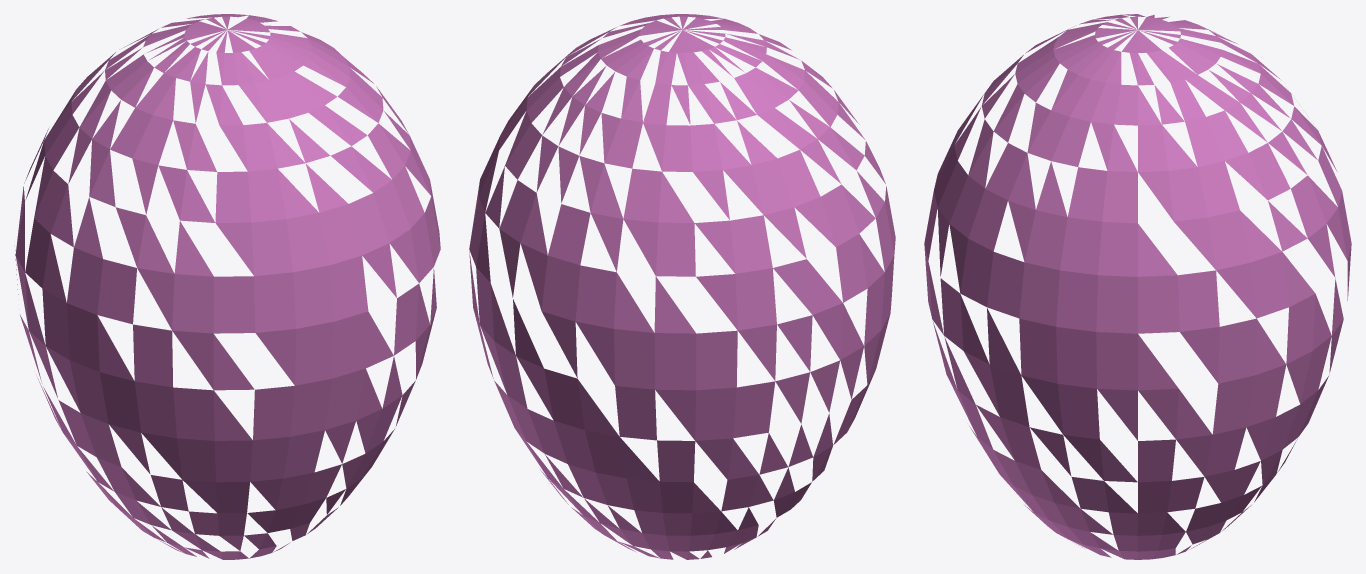
The model's file is food_egg_chicken_b06.glb.
3 renders of one model, left to right at view 1: azimuth 30°, elevation 25°; view 2: azimuth 150°, elevation 25°; view 3: azimuth 270°, elevation 25°, orthographic.
Visible parts, largest first — view 1: geometry_0; view 2: geometry_0; view 3: geometry_0.
Part boxes in pixels (<box>): geometry_0: <box>14,14,440,559</box>; geometry_0: <box>469,14,895,559</box>; geometry_0: <box>924,14,1351,559</box>.
Size of the model in its own units: 0.3574 by 0.48 by 0.3574.
